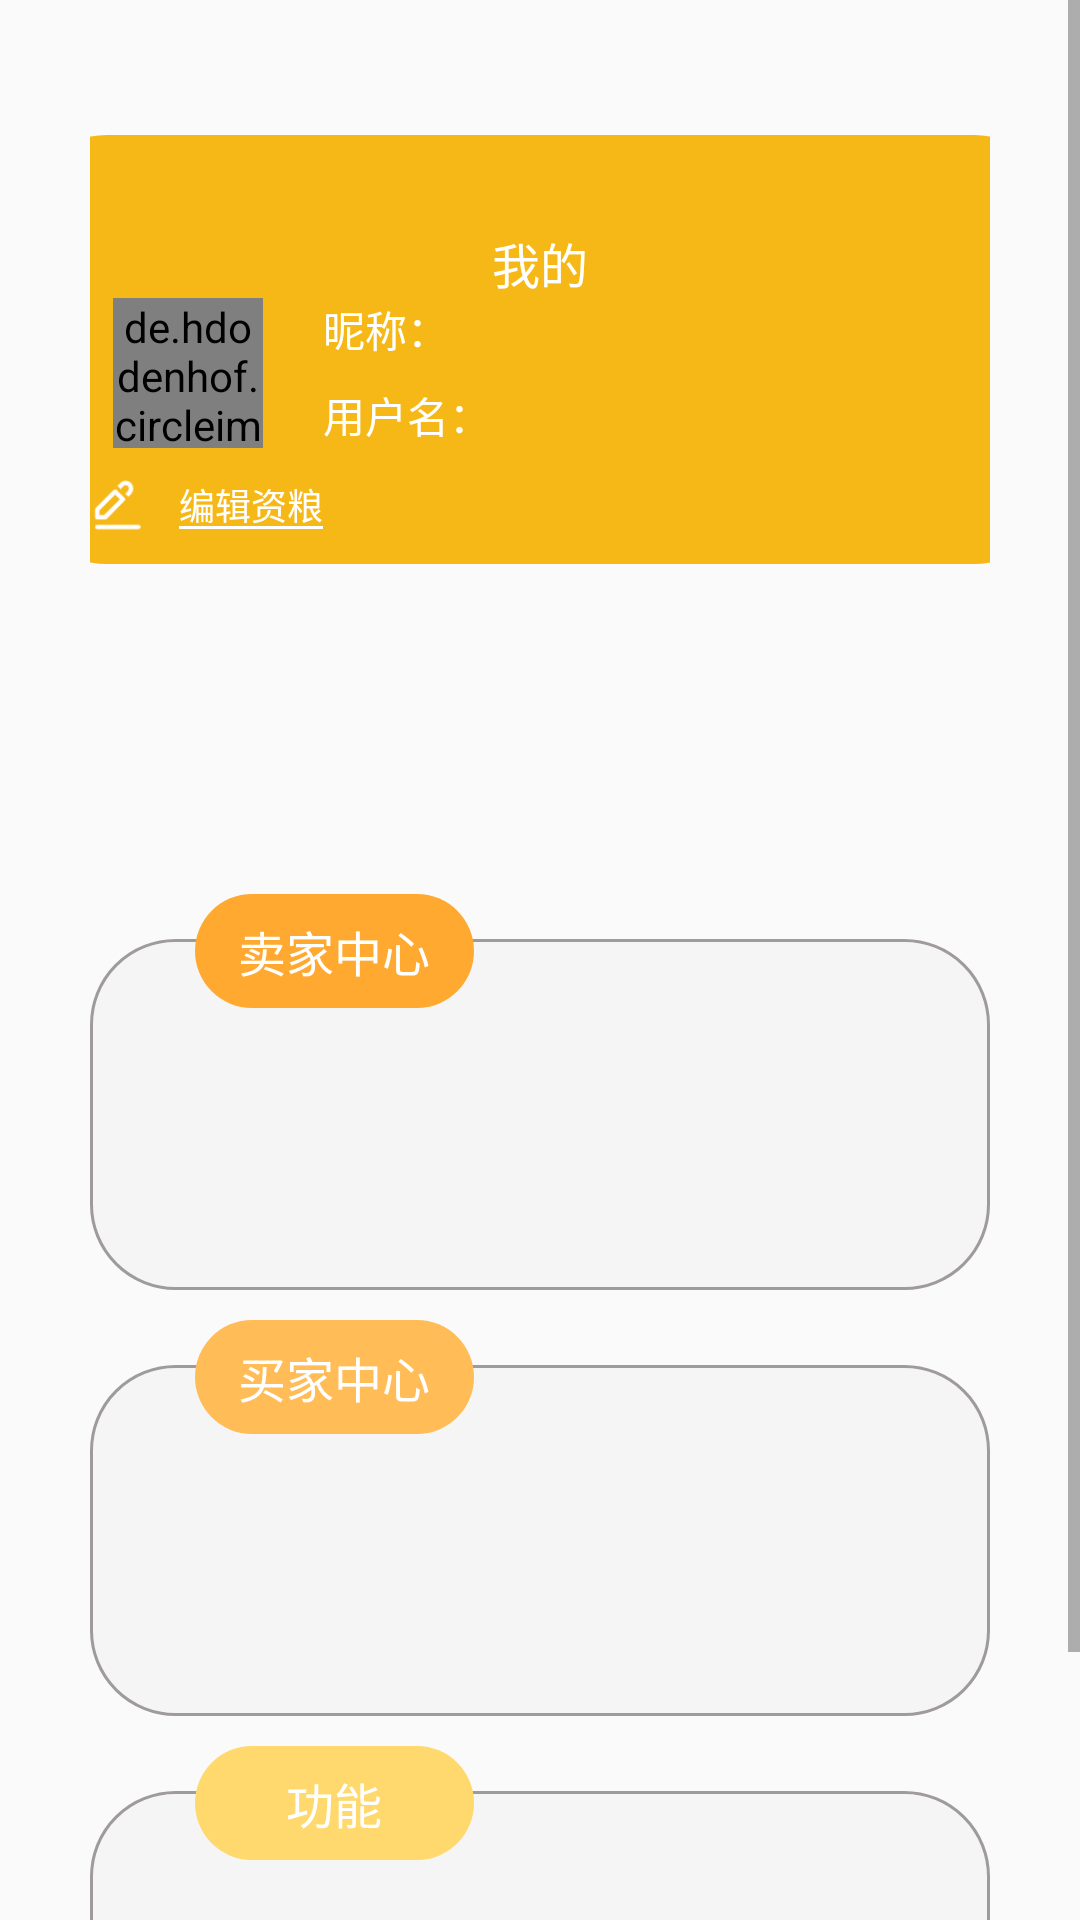

Icons on this 1080px x 1920px Android screen, each with its box as (x1, y1, x2, y2):
write: (94, 480, 141, 530)
